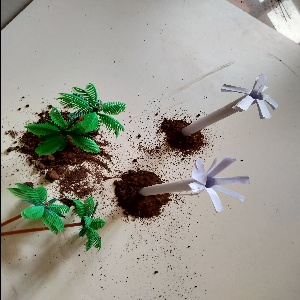plant: (19, 83, 129, 157), (7, 176, 109, 251)
weed: (136, 159, 276, 216), (177, 72, 286, 136)
